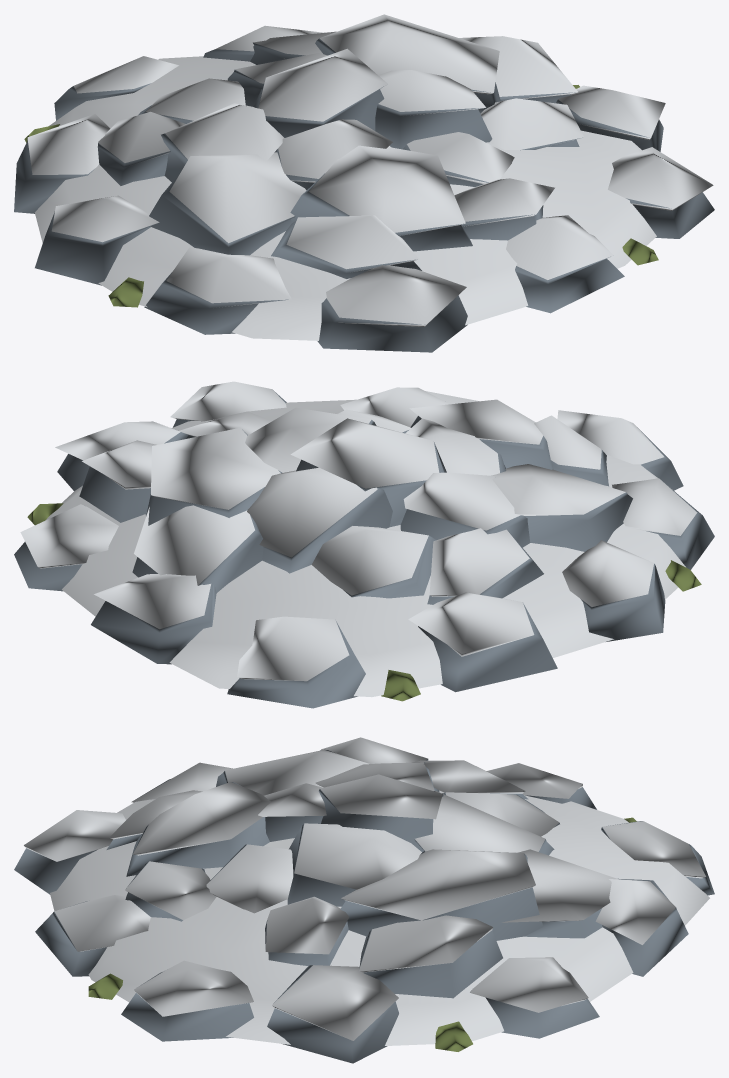
The model's file is Plataforma_extra.glb.
3 views of the same model, one above another, from view 1: azimuth 30°, elevation 25°; view 2: azimuth 150°, elevation 25°; view 3: azimuth 270°, elevation 25° (orthographic). The views are drawn at different scales.
Visible parts, largest first — view 1: plataforma extra; view 2: plataforma extra; view 3: plataforma extra.
Boxes of the visible parts, x1=… form: plataforma extra: x1=14, y1=14, x2=714, y2=352; plataforma extra: x1=14, y1=381, x2=714, y2=708; plataforma extra: x1=14, y1=737, x2=714, y2=1063.
Bounding box in the file's own units: 1.98 × 0.4114 × 1.98.
